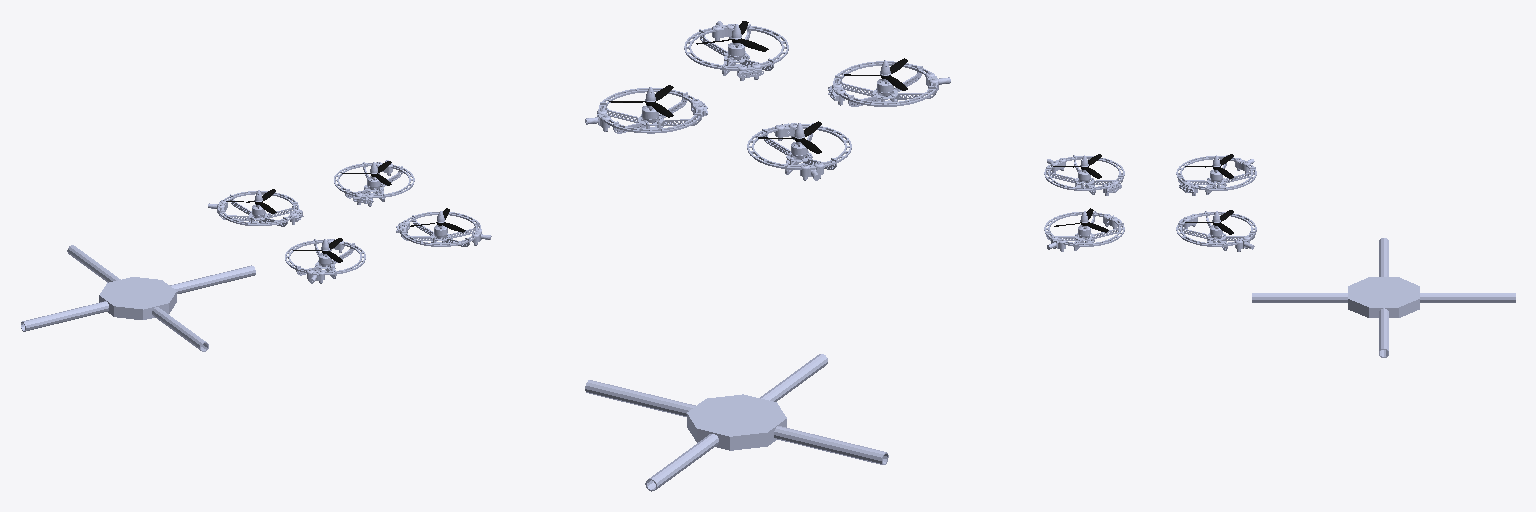
The robot description file, URDF, robot "Quad_model2":
<?xml version="1.0" encoding="utf-8"?>
<!-- This URDF was automatically created by SolidWorks to URDF Exporter! Originally created by [author] ([email redacted]) 
     Commit Version: 1.6.0-1-g15f4949  Build Version: 1.6.7594.29634
     For more information, please see http://wiki.ros.org/sw_urdf_exporter -->
<robot
  name="Quad_model2">
  <link
    name="base_link">
    <inertial>
      <origin
        xyz="0.22407 -0.48805 0.32445"
        rpy="0 0 0" />
      <mass
        value="0.97442" />
      <inertia
        ixx="0.00057303"
        ixy="1.8862E-11"
        ixz="-1.105E-11"
        iyy="0.00057303"
        iyz="-2.322E-12"
        izz="0.0010319" />
    </inertial>
    <visual>
      <origin
        xyz="0 0 0"
        rpy="0 0 0" />
      <geometry>
        <mesh
          filename="package://Quad_model2/meshes/base_link.STL" />
      </geometry>
      <material
        name="">
        <color
          rgba="0.79216 0.81961 0.93333 1" />
      </material>
    </visual>
    <collision>
      <origin
        xyz="0 0 0"
        rpy="0 0 0" />
      <geometry>
        <mesh
          filename="package://Quad_model2/meshes/base_link.STL" />
      </geometry>
    </collision>
  </link>
  <link
    name="wrist_front_link">
    <inertial>
      <origin
        xyz="6.89995963896184E-05 0.000315327536543841 2.72144423174581E-06"
        rpy="0 0 0" />
      <mass
        value="0.0575772682820336" />
      <inertia
        ixx="3.68696416909138E-05"
        ixy="-1.85494733179589E-09"
        ixz="-3.03621325038864E-10"
        iyy="7.5037239312818E-05"
        iyz="1.18514013973388E-09"
        izz="4.10250405964996E-05" />
    </inertial>
    <visual>
      <origin
        xyz="0 0 0"
        rpy="0 0 0" />
      <geometry>
        <mesh
          filename="package://Quad_model2/meshes/wrist_front_link.STL" />
      </geometry>
      <material
        name="">
        <color
          rgba="0.792156862745098 0.819607843137255 0.933333333333333 1" />
      </material>
    </visual>
    <collision>
      <origin
        xyz="0 0 0"
        rpy="0 0 0" />
      <geometry>
        <mesh
          filename="package://Quad_model2/meshes/wrist_front_link.STL" />
      </geometry>
    </collision>
  </link>
  <joint
    name="wrist_front_joint"
    type="revolute">
    <origin
      xyz="0.0860691765800737 -0.626053636997834 0.332824389225178"
      rpy="1.5707963267949 0 0.785398163397438" />
    <parent
      link="base_link" />
    <child
      link="wrist_front_link" />
    <axis
      xyz="-1 0 0" />
    <limit
      lower="0"
      upper="0"
      effort="0"
      velocity="0" />
  </joint>
  <link
    name="prop_front_link">
    <inertial>
      <origin
        xyz="-1.57679355616835E-06 0.00406729086033414 -2.52659058230797E-07"
        rpy="0 0 0" />
      <mass
        value="0.00626471152842508" />
      <inertia
        ixx="1.47590710026093E-06"
        ixy="6.46249849403867E-12"
        ixz="-1.28964894486098E-10"
        iyy="2.91318626412533E-06"
        iyz="-9.30221435719257E-14"
        izz="1.47607643256784E-06" />
    </inertial>
    <visual>
      <origin
        xyz="0 0 0"
        rpy="0 0 0" />
      <geometry>
        <mesh
          filename="package://Quad_model2/meshes/prop_front_link.STL" />
      </geometry>
      <material
        name="">
        <color
          rgba="0.101960784313725 0.101960784313725 0.101960784313725 1" />
      </material>
    </visual>
    <collision>
      <origin
        xyz="0 0 0"
        rpy="0 0 0" />
      <geometry>
        <mesh
          filename="package://Quad_model2/meshes/prop_front_link.STL" />
      </geometry>
    </collision>
  </link>
  <joint
    name="prop_front_joint"
    type="revolute">
    <origin
      xyz="0 0.0179910148359888 0"
      rpy="0 -0.785398163397438 0" />
    <parent
      link="wrist_front_link" />
    <child
      link="prop_front_link" />
    <axis
      xyz="0 -1 0" />
    <limit
      lower="0"
      upper="0"
      effort="0"
      velocity="0" />
  </joint>
  <link
    name="wrist_rear_link">
    <inertial>
      <origin
        xyz="-0.00842726992183307 0.000315327536543675 2.72144423096865E-06"
        rpy="0 0 0" />
      <mass
        value="0.0575772682820351" />
      <inertia
        ixx="3.68696416909147E-05"
        ixy="-1.85494733177041E-09"
        ixz="-3.03621324693274E-10"
        iyy="7.50372393128189E-05"
        iyz="1.18514013975198E-09"
        izz="4.10250405964997E-05" />
    </inertial>
    <visual>
      <origin
        xyz="0 0 0"
        rpy="0 0 0" />
      <geometry>
        <mesh
          filename="package://Quad_model2/meshes/wrist_rear_link.STL" />
      </geometry>
      <material
        name="">
        <color
          rgba="0.792156862745098 0.819607843137255 0.933333333333333 1" />
      </material>
    </visual>
    <collision>
      <origin
        xyz="0 0 0"
        rpy="0 0 0" />
      <geometry>
        <mesh
          filename="package://Quad_model2/meshes/wrist_rear_link.STL" />
      </geometry>
    </collision>
  </link>
  <joint
    name="wrist_rear_joint"
    type="revolute">
    <origin
      xyz="0.356061406788946 -0.356061406788959 0.332824389225177"
      rpy="1.5707963267949 0 -2.35619449019236" />
    <parent
      link="base_link" />
    <child
      link="wrist_rear_link" />
    <axis
      xyz="-1 0 0" />
    <limit
      lower="0"
      upper="0"
      effort="0"
      velocity="0" />
  </joint>
  <link
    name="prop_rear_link">
    <inertial>
      <origin
        xyz="-1.62386300567308E-06 0.00406728970206238 -2.80791382145651E-07"
        rpy="0 0 0" />
      <mass
        value="0.0062647197324137" />
      <inertia
        ixx="1.47590843165313E-06"
        ixy="6.31366347012516E-12"
        ixz="-1.31033243915763E-10"
        iyy="2.91319108936351E-06"
        iyz="-2.12281063999284E-13"
        izz="1.47607994794417E-06" />
    </inertial>
    <visual>
      <origin
        xyz="0 0 0"
        rpy="0 0 0" />
      <geometry>
        <mesh
          filename="package://Quad_model2/meshes/prop_rear_link.STL" />
      </geometry>
      <material
        name="">
        <color
          rgba="0.101960784313725 0.101960784313725 0.101960784313725 1" />
      </material>
    </visual>
    <collision>
      <origin
        xyz="0 0 0"
        rpy="0 0 0" />
      <geometry>
        <mesh
          filename="package://Quad_model2/meshes/prop_rear_link.STL" />
      </geometry>
    </collision>
  </link>
  <joint
    name="prop_rear_joint"
    type="revolute">
    <origin
      xyz="-0.00849626951822631 0.0179910148359874 0"
      rpy="3.14159265358979 0.785398163397429 3.14159265358979" />
    <parent
      link="wrist_rear_link" />
    <child
      link="prop_rear_link" />
    <axis
      xyz="0 -1 0" />
    <limit
      lower="0"
      upper="0"
      effort="0"
      velocity="0" />
  </joint>
  <link
    name="wrist_right_link">
    <inertial>
      <origin
        xyz="0.170093997758423 0.000315327536544341 2.72144423110743E-06"
        rpy="0 0 0" />
      <mass
        value="0.0575772682820312" />
      <inertia
        ixx="3.68696416909145E-05"
        ixy="-1.85494733176444E-09"
        ixz="-3.03621324872845E-10"
        iyy="7.50372393128185E-05"
        iyz="1.18514013979133E-09"
        izz="4.10250405964993E-05" />
    </inertial>
    <visual>
      <origin
        xyz="0 0 0"
        rpy="0 0 0" />
      <geometry>
        <mesh
          filename="package://Quad_model2/meshes/wrist_right_link.STL" />
      </geometry>
      <material
        name="">
        <color
          rgba="0.792156862745098 0.819607843137255 0.933333333333333 1" />
      </material>
    </visual>
    <collision>
      <origin
        xyz="0 0 0"
        rpy="0 0 0" />
      <geometry>
        <mesh
          filename="package://Quad_model2/meshes/wrist_right_link.STL" />
      </geometry>
    </collision>
  </link>
  <joint
    name="wrist_right_joint"
    type="revolute">
    <origin
      xyz="-0.0341566525915344 -0.229827807826224 0.332824389225177"
      rpy="1.5707963267949 0 -0.785398163397468" />
    <parent
      link="base_link" />
    <child
      link="wrist_right_link" />
    <axis
      xyz="-1 0 0" />
    <limit
      lower="0"
      upper="0"
      effort="0"
      velocity="0" />
  </joint>
  <link
    name="prop_right_link">
    <inertial>
      <origin
        xyz="-1.62386300425754E-06 0.00406728970206227 -2.8079138353343E-07"
        rpy="0 0 0" />
      <mass
        value="0.0062647197324137" />
      <inertia
        ixx="1.47590843165299E-06"
        ixy="6.31366347025792E-12"
        ixz="-1.31033243947087E-10"
        iyy="2.91319108936339E-06"
        iyz="-2.12281063317687E-13"
        izz="1.47607994794418E-06" />
    </inertial>
    <visual>
      <origin
        xyz="0 0 0"
        rpy="0 0 0" />
      <geometry>
        <mesh
          filename="package://Quad_model2/meshes/prop_right_link.STL" />
      </geometry>
      <material
        name="">
        <color
          rgba="0.101960784313725 0.101960784313725 0.101960784313725 1" />
      </material>
    </visual>
    <collision>
      <origin
        xyz="0 0 0"
        rpy="0 0 0" />
      <geometry>
        <mesh
          filename="package://Quad_model2/meshes/prop_right_link.STL" />
      </geometry>
    </collision>
  </link>
  <joint
    name="prop_right_joint"
    type="revolute">
    <origin
      xyz="0.170024998162035 0.0179910148359883 0"
      rpy="0 0.785398163397468 0" />
    <parent
      link="wrist_right_link" />
    <child
      link="prop_right_link" />
    <axis
      xyz="0 -1 0" />
    <limit
      lower="0"
      upper="0"
      effort="0"
      velocity="0" />
  </joint>
  <link
    name="wrist_left_link">
    <inertial>
      <origin
        xyz="-0.169955998565644 0.000315327536543952 2.72144423130172E-06"
        rpy="0 0 0" />
      <mass
        value="0.0575772682820338" />
      <inertia
        ixx="3.68696416909147E-05"
        ixy="-1.85494733179659E-09"
        ixz="-3.03621324938914E-10"
        iyy="7.50372393128187E-05"
        iyz="1.18514013975006E-09"
        izz="4.10250405964994E-05" />
    </inertial>
    <visual>
      <origin
        xyz="0 0 0"
        rpy="0 0 0" />
      <geometry>
        <mesh
          filename="package://Quad_model2/meshes/wrist_left_link.STL" />
      </geometry>
      <material
        name="">
        <color
          rgba="0.792156862745098 0.819607843137255 0.933333333333333 1" />
      </material>
    </visual>
    <collision>
      <origin
        xyz="0 0 0"
        rpy="0 0 0" />
      <geometry>
        <mesh
          filename="package://Quad_model2/meshes/wrist_left_link.STL" />
      </geometry>
    </collision>
  </link>
  <joint
    name="wrist_left_joint"
    type="revolute">
    <origin
      xyz="0.241843347408475 -0.505827807826225 0.332824389225176"
      rpy="1.5707963267949 0 2.35619449019234" />
    <parent
      link="base_link" />
    <child
      link="wrist_left_link" />
    <axis
      xyz="-1 0 0" />
    <limit
      lower="0"
      upper="0"
      effort="0"
      velocity="0" />
  </joint>
  <link
    name="prop_left_link">
    <inertial>
      <origin
        xyz="-7.8327343433493E-07 0.00406732050568354 -2.27620133252948E-06"
        rpy="0 0 0" />
      <mass
        value="0.0062649513793301" />
      <inertia
        ixx="1.47596706431148E-06"
        ixy="3.0714992496673E-12"
        ixz="1.57372871282249E-11"
        iyy="2.91348485699847E-06"
        iyz="7.33385762952939E-12"
        izz="1.47631374156226E-06" />
    </inertial>
    <visual>
      <origin
        xyz="0 0 0"
        rpy="0 0 0" />
      <geometry>
        <mesh
          filename="package://Quad_model2/meshes/prop_left_link.STL" />
      </geometry>
      <material
        name="">
        <color
          rgba="0.101960784313725 0.101960784313725 0.101960784313725 1" />
      </material>
    </visual>
    <collision>
      <origin
        xyz="0 0 0"
        rpy="0 0 0" />
      <geometry>
        <mesh
          filename="package://Quad_model2/meshes/prop_left_link.STL" />
      </geometry>
    </collision>
  </link>
  <joint
    name="prop_left_joint"
    type="revolute">
    <origin
      xyz="-0.170024998162035 0.0179910148359875 0"
      rpy="3.14159265358979 -1.08010792597015 3.14159265358979" />
    <parent
      link="wrist_left_link" />
    <child
      link="prop_left_link" />
    <axis
      xyz="0 -1 0" />
    <limit
      lower="0"
      upper="0"
      effort="0"
      velocity="0" />
  </joint>
</robot>

--- What the picture shows (computed from the rendered views, not written in the file) ---
3 views of the same robot in one strip: view 1: azimuth 30°, elevation 25°; view 2: azimuth 150°, elevation 25°; view 3: azimuth 270°, elevation 25° (orthographic).
Robot: Quad_model2 — 9 links, 8 joints (8 revolute); root link base_link; default pose: every joint at zero.
Links seen in each view (by area): view 1: base_link, wrist_left_link, wrist_right_link, wrist_front_link, wrist_rear_link; view 2: base_link, wrist_front_link, wrist_rear_link, wrist_left_link, wrist_right_link; view 3: base_link, wrist_left_link, wrist_front_link, wrist_rear_link, wrist_right_link.
Link boxes in pixels (box(x1,y1,x2,y2)): base_link: box(21, 245, 255, 351); wrist_left_link: box(396, 211, 491, 246); wrist_right_link: box(208, 190, 303, 226); wrist_front_link: box(285, 239, 365, 283); wrist_rear_link: box(334, 160, 414, 206); base_link: box(585, 354, 888, 491); wrist_front_link: box(828, 60, 950, 106); wrist_rear_link: box(585, 87, 707, 133); wrist_left_link: box(684, 21, 788, 80); wrist_right_link: box(747, 123, 851, 180); base_link: box(1252, 238, 1515, 357); wrist_left_link: box(1044, 211, 1124, 251); wrist_front_link: box(1044, 155, 1124, 195); wrist_rear_link: box(1176, 211, 1256, 251); wrist_right_link: box(1176, 155, 1256, 195).
Size in the robot's own frame: 0.7209 by 0.9849 by 0.382 metres.
Meshes: 9 distinct files referenced, 9 mesh visuals loaded (9 binary STL).